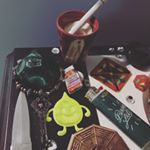cups: (53, 7, 102, 67)
